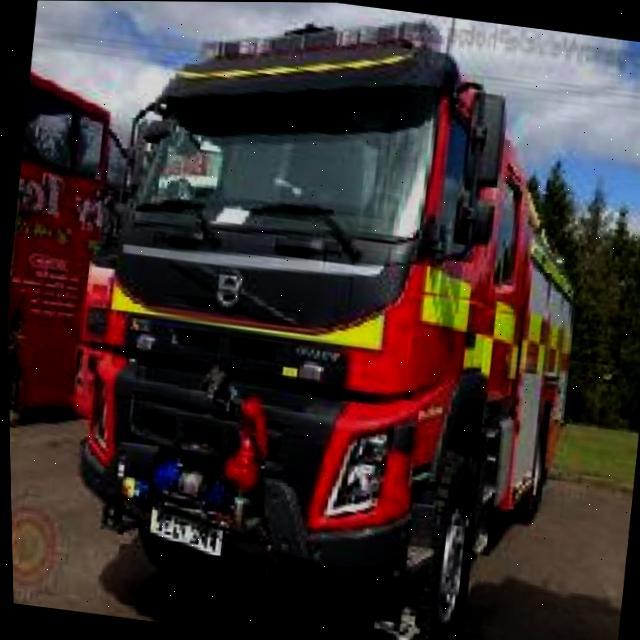emergency: (43, 0, 616, 640)
